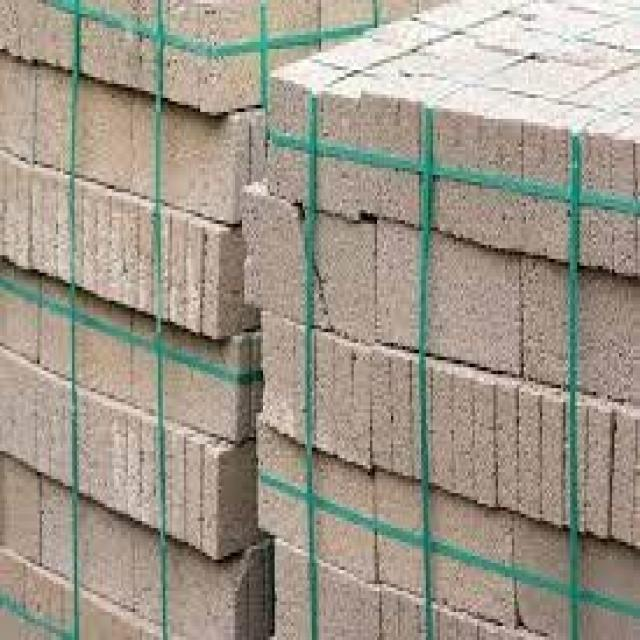bricks: (0, 0, 638, 637)
